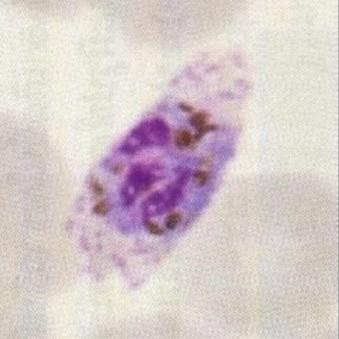Infected: (82, 45, 275, 294)
